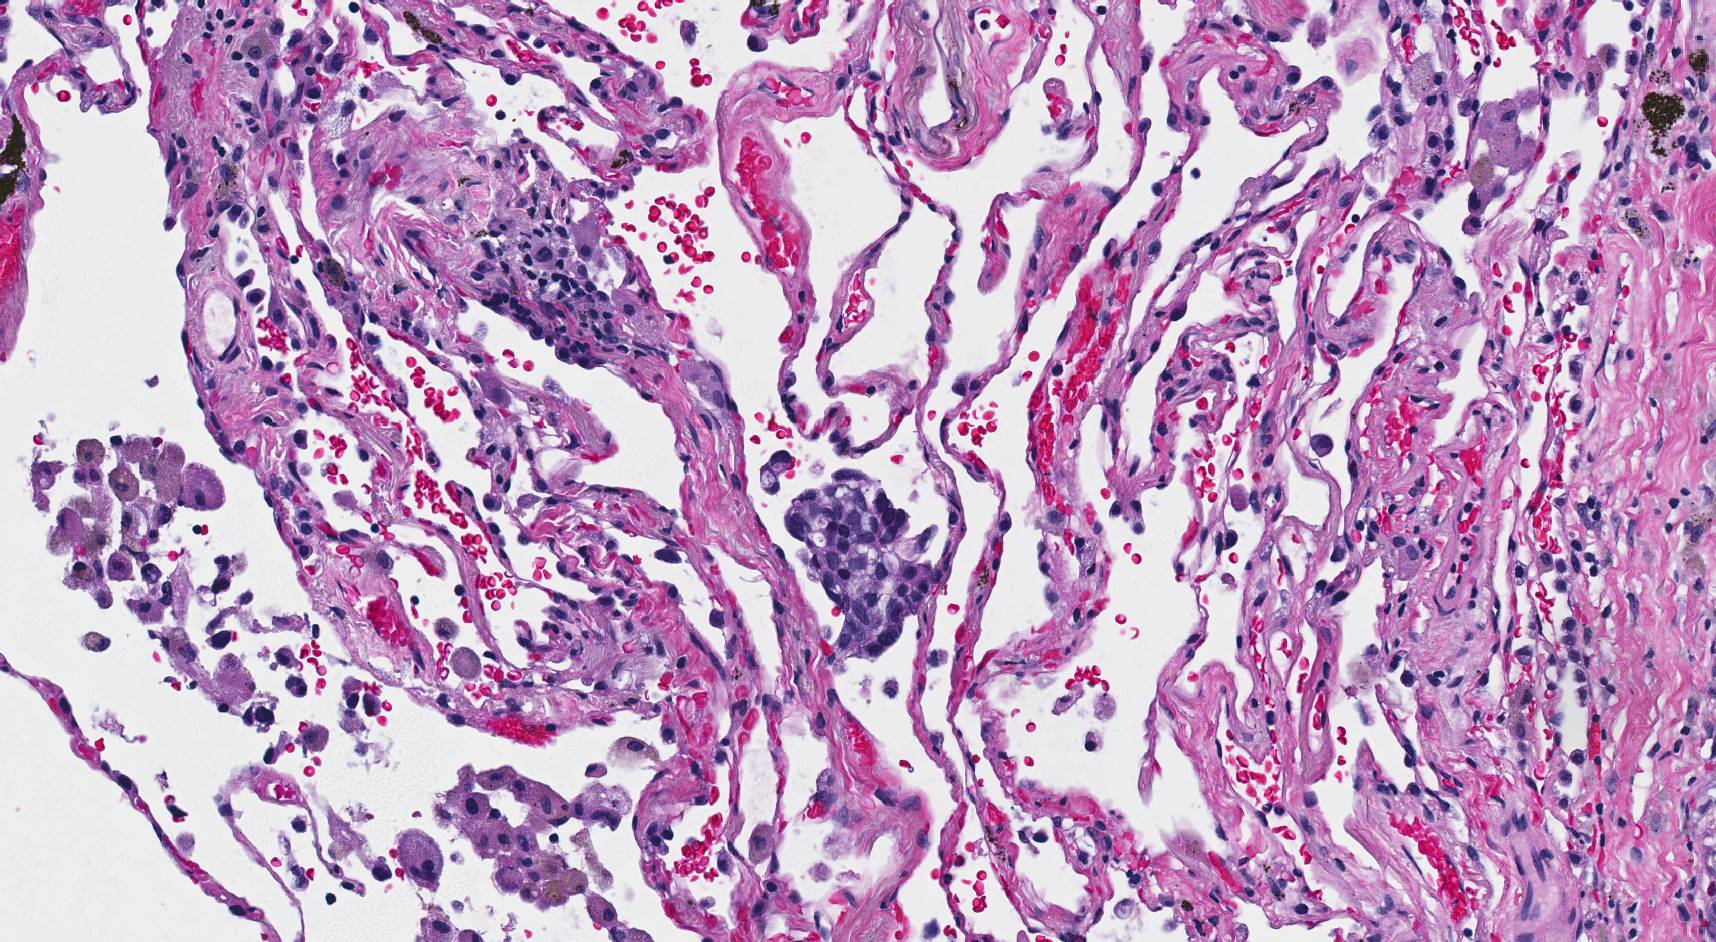stas: (783, 469, 936, 663), (760, 450, 791, 492)
